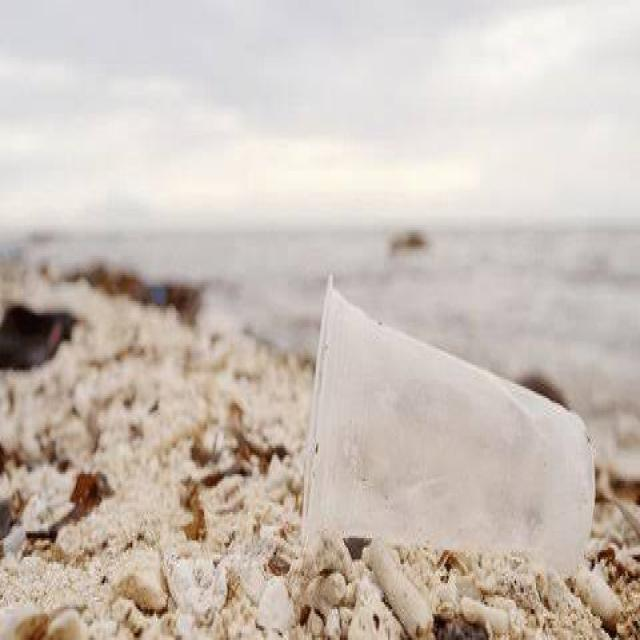plastic: (262, 259, 620, 640)
